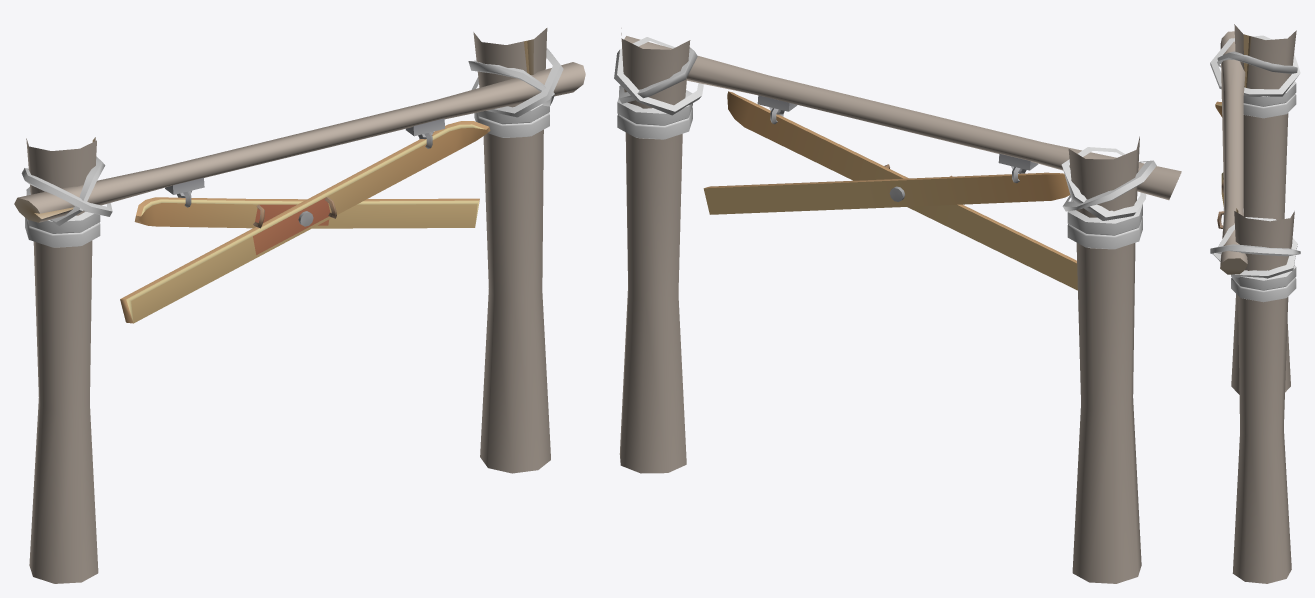
File: BoardwalkGate.glb
3 renders of one model, left to right at view 1: azimuth 30°, elevation 25°; view 2: azimuth 150°, elevation 25°; view 3: azimuth 270°, elevation 25°, orthographic. The views are drawn at different scales.
Visible parts, largest first — view 1: BoardwalkGate; view 2: BoardwalkGate; view 3: BoardwalkGate.
Part boxes in pixels (x1,y1,x2,y2): BoardwalkGate: [14, 28, 585, 583]; BoardwalkGate: [614, 28, 1181, 583]; BoardwalkGate: [1210, 24, 1300, 583].
Bounding box in the file's own units: 3.84 × 2.84 × 0.6419.
